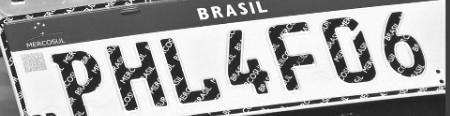placa_mercosul: (0, 0, 444, 115)
